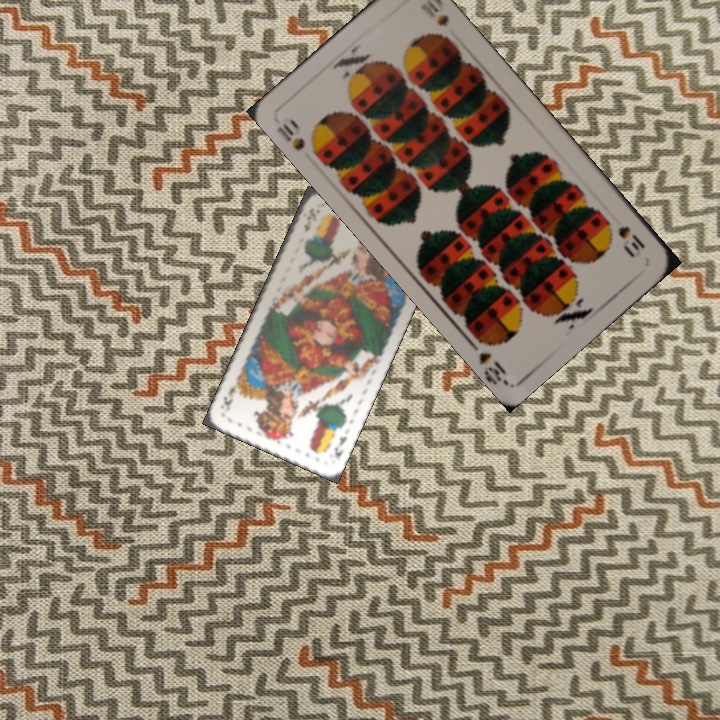EK: (330, 432, 350, 461), (300, 204, 317, 234)
S10: (272, 115, 321, 160), (614, 221, 648, 259)
